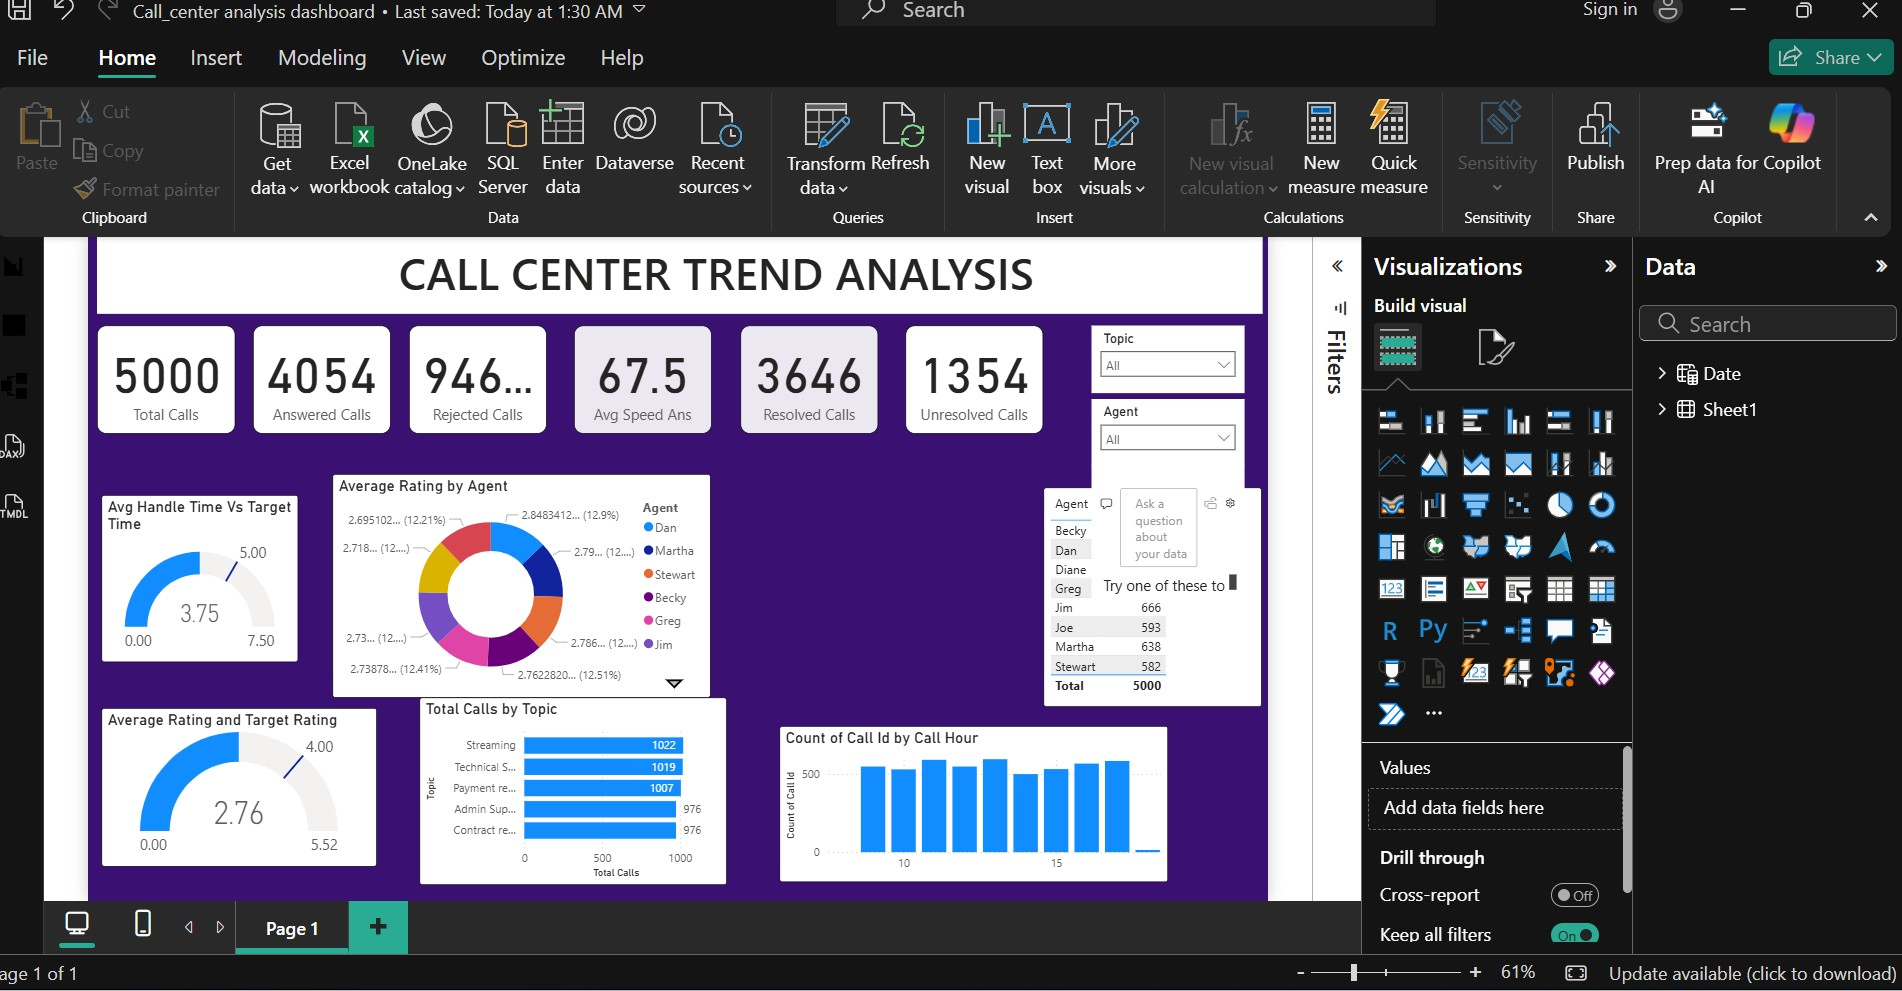

The dashboard page shown, as its layout file describes it:
{"tool":"powerbi","page":{"name":"Page 1","canvas":[1280,720],"ordinal":0},"visuals":[{"type":"textbox","box":[9.6,0,1263.8,83.1],"z":0},{"type":"card","fields":{"Values":["Sheet1.Total Calls"]},"box":[9.4,96.4,150,117.2],"z":1000},{"type":"card","fields":{"Values":["Sheet1.Answered Calls"]},"box":[178.9,96,149.6,117.1],"z":2000},{"type":"card","fields":{"Values":["Sheet1.Rejected Calls"]},"box":[348.1,96,149.6,117.1],"z":3000},{"type":"gauge","title":"Avg Handle Time Vs Target Time","fields":{"Y":["Sheet1.Avg Handle Time"],"TargetValue":["Sheet1.Target Time"]},"box":[15.1,279.7,213.5,181.4],"z":4000},{"type":"card","fields":{"Values":["Sheet1.Avg Speed Ans"]},"box":[527,96,149.6,117.1],"z":5000},{"type":"slicer","fields":{"Values":["Sheet1.Agent"]},"box":[1088,175.7,166.2,71.9],"z":6000},{"type":"slicer","fields":{"Values":["Sheet1.Topic"]},"box":[1088,95.9,166.2,73.5],"z":7000},{"type":"gauge","fields":{"Y":["Sheet1.Average Rating"],"TargetValue":["Sheet1.Target Rating"]},"box":[15.1,510.2,298.6,172],"z":8000},{"type":"columnChart","fields":{"Category":["Sheet1.Date.Variation.Date Hierarchy.Month"],"Y":["CountNonNull(Sheet1.Answered (Y/N))","Sheet1.Answered Calls"]},"box":[264.6,264.6,315.6,209.8],"z":9000},{"type":"donutChart","fields":{"Category":["Sheet1.Agent"],"Y":["Sheet1.Average Rating"]},"box":[265.1,257,409.9,242.4],"z":10000},{"type":"barChart","fields":{"Category":["Sheet1.Topic"],"Y":["Sheet1.Total Calls"]},"box":[359.5,499.3,333.4,203.3],"z":11000},{"type":"tableEx","fields":{"Values":["Sheet1.Agent","Sheet1.Total Calls"]},"box":[1036.9,271.6,236.5,238.1],"z":12000},{"type":"columnChart","fields":{"Category":["Sheet1.Call Hour"],"Y":["CountNonNull(Sheet1.Call Id)"]},"box":[749.8,530.3,421.3,169.2],"z":13000},{"type":"card","fields":{"Values":["Sheet1.Resolved Calls"]},"box":[707.5,96,149.6,117.1],"z":14000},{"type":"card","fields":{"Values":["Sum(Sheet1.Unresolved Calls)"]},"box":[886.5,96,149.6,117.1],"z":15000},{"type":"qnaVisual","box":[1088,247.6,166.2,150],"z":16000}]}

Visuals, with their boxes on the page's 1280x720 design canvas (x1, y1, x2, y2). These are canvas units, not pixel positions in the 1902x991 screenshot, which may show the page scaled, cropped or inside an application window:
textbox: [10,0,1273,83]
card - Sheet1.Total Calls: [9,96,159,214]
card - Sheet1.Answered Calls: [179,96,328,213]
card - Sheet1.Rejected Calls: [348,96,498,213]
"Avg Handle Time Vs Target Time" gauge: [15,280,229,461]
card - Sheet1.Avg Speed Ans: [527,96,677,213]
slicer - Sheet1.Agent: [1088,176,1254,248]
slicer - Sheet1.Topic: [1088,96,1254,169]
gauge - Sheet1.Average Rating x Sheet1.Target Rating: [15,510,314,682]
columnChart - Sheet1.Date.Variation.Date Hierarchy.Month x CountNonNull(Sheet1.Answered (Y/N)): [265,265,580,474]
donutChart - Sheet1.Agent x Sheet1.Average Rating: [265,257,675,499]
barChart - Sheet1.Topic x Sheet1.Total Calls: [360,499,693,703]
tableEx - Sheet1.Agent x Sheet1.Total Calls: [1037,272,1273,510]
columnChart - Sheet1.Call Hour x CountNonNull(Sheet1.Call Id): [750,530,1171,700]
card - Sheet1.Resolved Calls: [708,96,857,213]
card - Sum(Sheet1.Unresolved Calls): [886,96,1036,213]
qnaVisual: [1088,248,1254,398]
